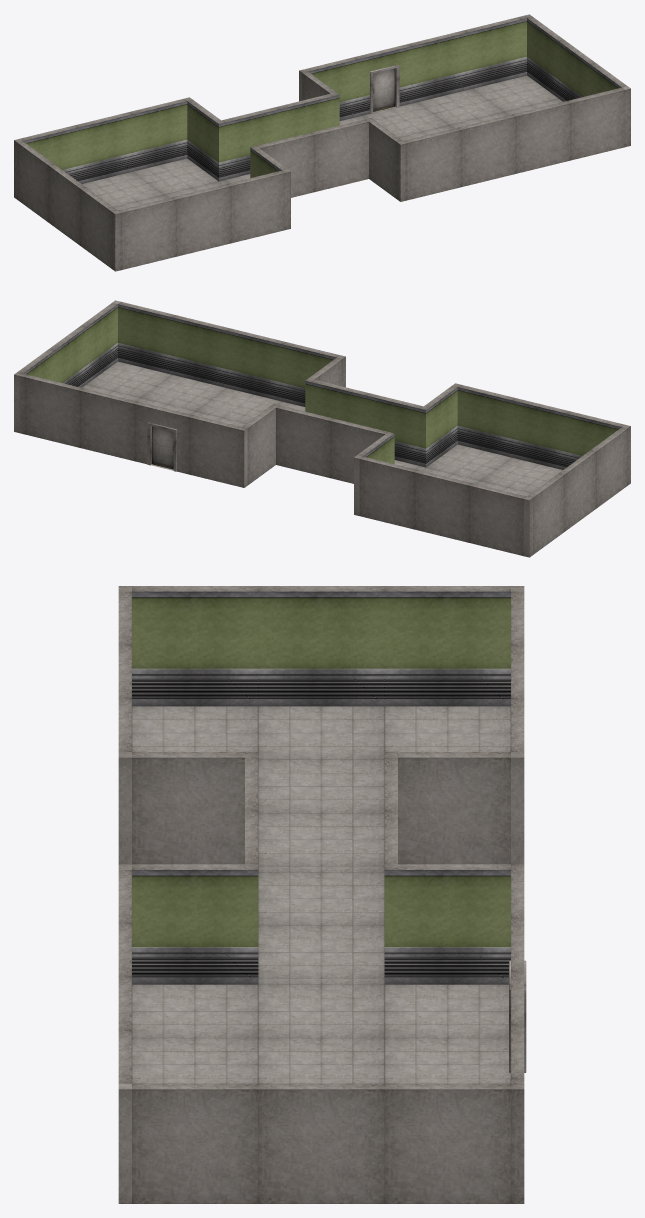
File: mapInsideB3.fbx
3 views of the same model, one above another, from view 1: azimuth 30°, elevation 25°; view 2: azimuth 150°, elevation 25°; view 3: azimuth 270°, elevation 25° (orthographic). The views are drawn at different scales.
Parts seen in each view (by area): view 1: Wall8, Wall6, Wall12, Wall2, Wall1, Floor3, Wall10, Wall4, Wall7, Floor1, Wall3, Wall9 (+4 smaller); view 2: Wall6, Wall8, Wall2, Wall12, Wall1, Floor3, Wall4, Wall7, Wall10, Floor1, Wall11, Wall5 (+4 smaller); view 3: Wall7, Wall1, Floor3, Floor1, Wall9, Wall5, Floor2, Wall11, Wall3, Wall8, Wall12, Wall2 (+3 smaller).
Part boxes in pixels (x1=…): Wall8: x1=397, y1=86, x2=630, y2=201; Wall6: x1=299, y1=15, x2=526, y2=120; Wall12: x1=112, y1=169, x2=290, y2=271; Wall2: x1=14, y1=97, x2=192, y2=199; Wall1: x1=17, y1=141, x2=117, y2=268; Floor3: x1=339, y1=75, x2=562, y2=140; Wall10: x1=256, y1=119, x2=368, y2=197; Wall4: x1=221, y1=93, x2=333, y2=179; Wall7: x1=524, y1=14, x2=627, y2=101; Floor1: x1=82, y1=158, x2=222, y2=210; Wall3: x1=187, y1=99, x2=224, y2=181; Wall9: x1=366, y1=118, x2=402, y2=199; Wall6: x1=19, y1=373, x2=247, y2=487; Wall8: x1=112, y1=300, x2=345, y2=406; Wall2: x1=354, y1=455, x2=532, y2=557; Wall12: x1=452, y1=383, x2=630, y2=485; Wall1: x1=527, y1=427, x2=627, y2=554; Floor3: x1=82, y1=361, x2=305, y2=426; Wall4: x1=276, y1=405, x2=388, y2=483; Wall7: x1=14, y1=303, x2=117, y2=432; Wall10: x1=311, y1=379, x2=423, y2=465; Floor1: x1=422, y1=444, x2=562, y2=496; Wall11: x1=420, y1=385, x2=457, y2=467; Wall5: x1=242, y1=404, x2=278, y2=485; Wall7: x1=132, y1=1083, x2=524, y2=1203; Wall1: x1=132, y1=586, x2=510, y2=706; Floor3: x1=132, y1=984, x2=510, y2=1083; Floor1: x1=132, y1=706, x2=510, y2=866; Wall9: x1=132, y1=864, x2=258, y2=984; Wall5: x1=384, y1=864, x2=510, y2=984; Floor2: x1=258, y1=866, x2=384, y2=984; Wall11: x1=132, y1=752, x2=258, y2=864; Wall3: x1=384, y1=752, x2=510, y2=864; Wall8: x1=118, y1=864, x2=131, y2=1203; Wall12: x1=118, y1=586, x2=131, y2=864; Wall2: x1=511, y1=586, x2=524, y2=864.
Size of the model in its own units: 26.85 by 2.85 by 9.2.
Materials: 5 (5 with a texture image).
